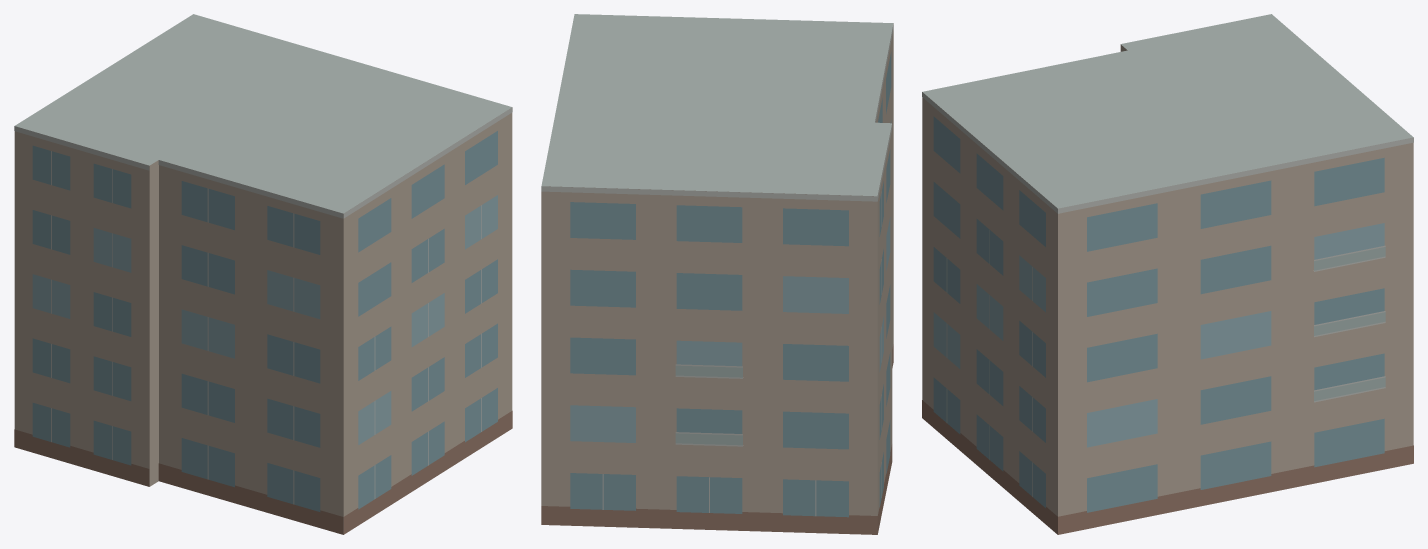
Rendered from survey-upis-32701591.glb.
3 views of the same model, side by side, from view 1: azimuth 30°, elevation 25°; view 2: azimuth 150°, elevation 25°; view 3: azimuth 270°, elevation 25° (orthographic). The views are drawn at different scales.
Parts seen in each view (by area): view 1: survey-upis-32701591.tmp; view 2: survey-upis-32701591.tmp; view 3: survey-upis-32701591.tmp.
Part boxes in pixels (<box>): survey-upis-32701591.tmp: <box>14,14,512,534</box>; survey-upis-32701591.tmp: <box>541,14,893,534</box>; survey-upis-32701591.tmp: <box>922,14,1413,534</box>.
Bounding box in the file's own units: 19.58 × 15.3 × 20.9.
